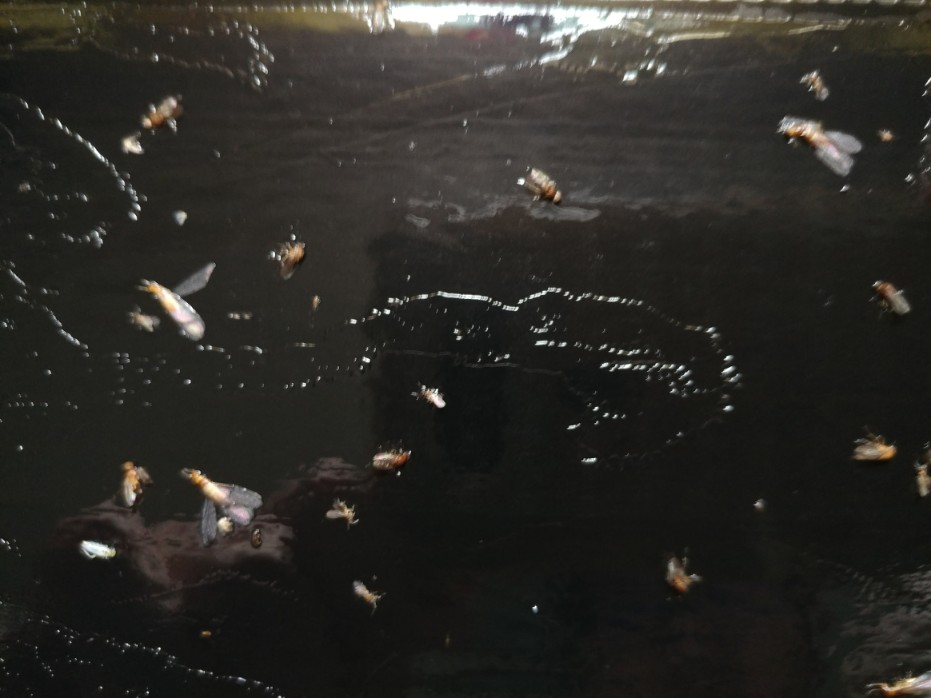termite: (172, 457, 274, 557), (119, 265, 224, 352), (773, 110, 866, 182)
